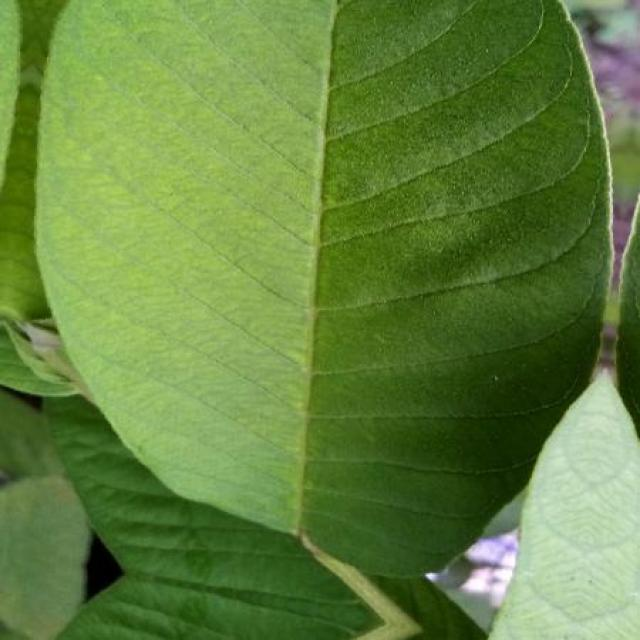Disease Free: (36, 0, 610, 574), (46, 400, 375, 640)
